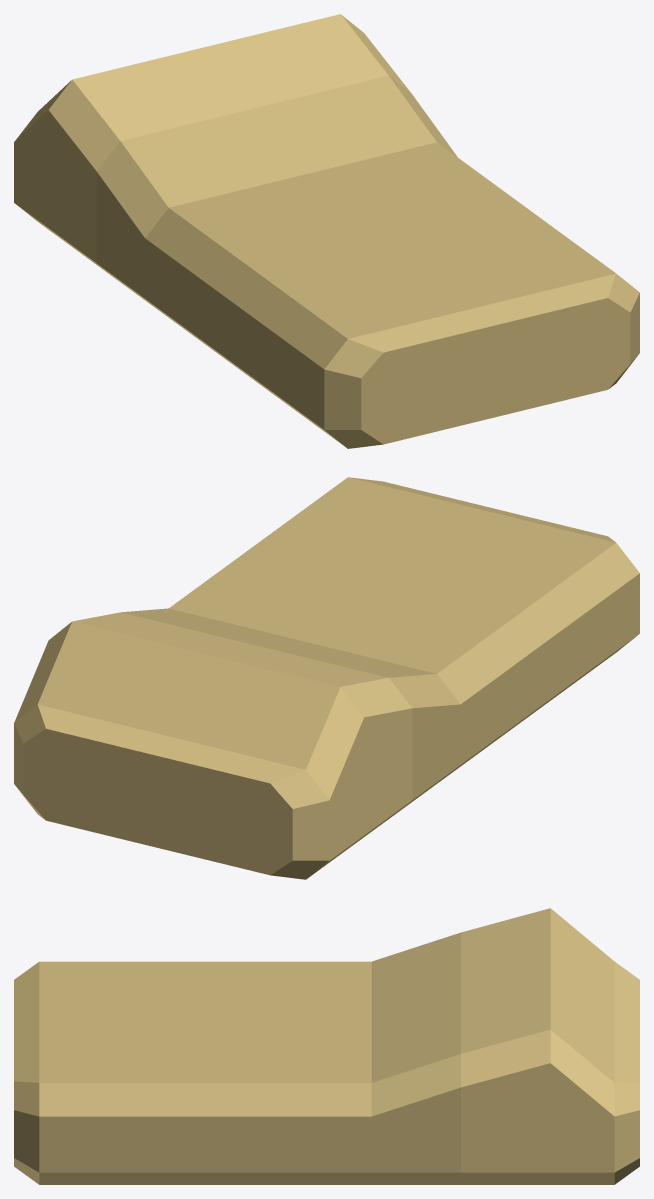
Rendered from tallow_medium_a.glb.
3 views of the same model, one above another, from view 1: azimuth 30°, elevation 25°; view 2: azimuth 150°, elevation 25°; view 3: azimuth 270°, elevation 25° (orthographic). The views are drawn at different scales.
Parts seen in each view (by area): view 1: tallow_medium_a; view 2: tallow_medium_a; view 3: tallow_medium_a.
Part boxes in pixels (<box>): tallow_medium_a: <box>14,14,639,448</box>; tallow_medium_a: <box>14,477,639,879</box>; tallow_medium_a: <box>14,908,639,1184</box>.
Size of the model in its own units: 3.4 by 1.73 by 6.3.
